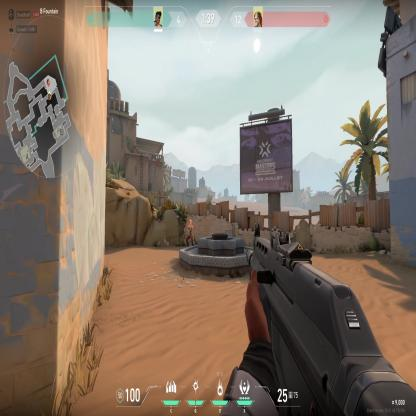enemy: (186, 218, 194, 246)
